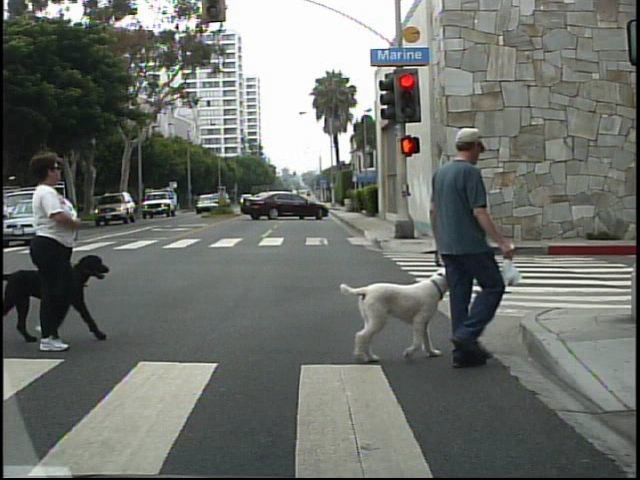person: (408, 116, 512, 374), (17, 153, 83, 357)
